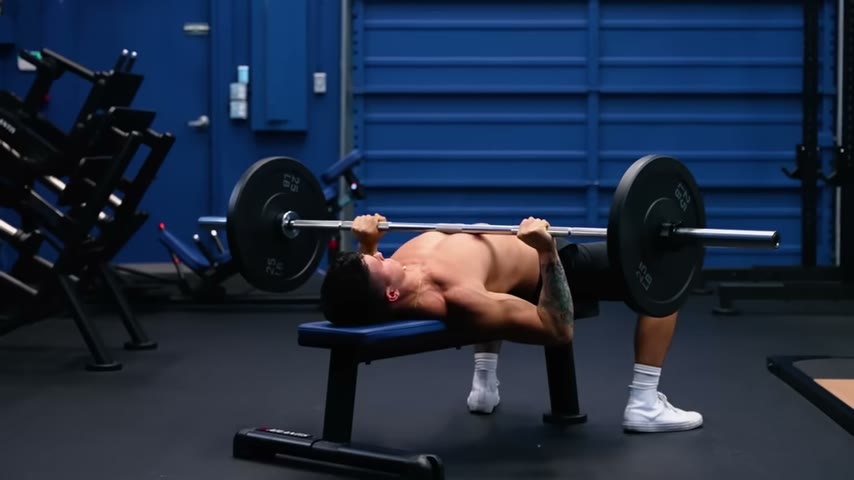barbell_plate_side: (643, 132, 787, 320), (227, 145, 355, 318), (634, 132, 715, 318)
